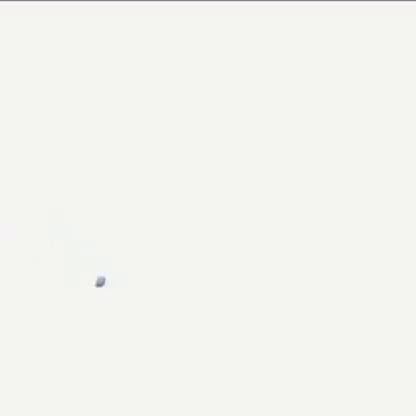golfball: (92, 273, 108, 289)
